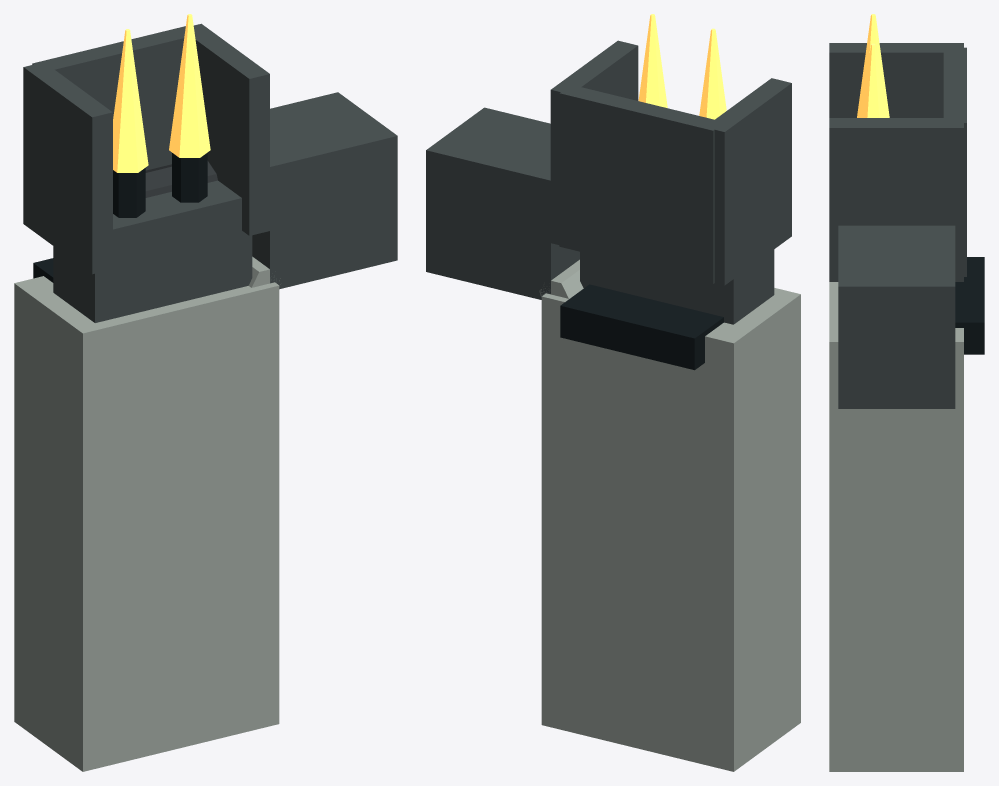
File: blender_igniter_3_lit.glb
3 views of the same model, side by side, from view 1: azimuth 30°, elevation 25°; view 2: azimuth 150°, elevation 25°; view 3: azimuth 270°, elevation 25° (orthographic). The views are drawn at different scales.
Visible parts, largest first — view 1: blender_igniter_3_lit; view 2: blender_igniter_3_lit; view 3: blender_igniter_3_lit.
Part boxes in pixels (left/top/right/bottom): blender_igniter_3_lit: left=14, top=14, right=397, bottom=771; blender_igniter_3_lit: left=426, top=14, right=800, bottom=771; blender_igniter_3_lit: left=829, top=14, right=984, bottom=771.
Bounding box in the file's own units: 0.0618 × 0.131 × 0.0265.
Materials: 2 (2 with a texture image).
